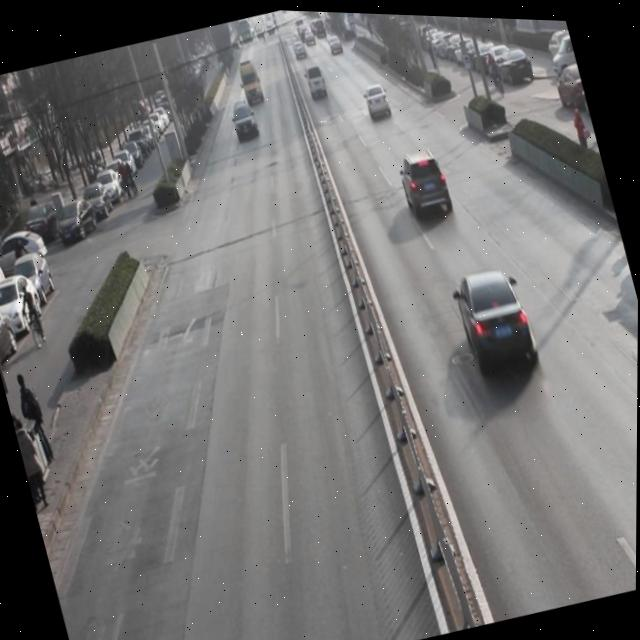car: (444, 253, 546, 387), (396, 144, 458, 228), (360, 76, 398, 128), (226, 97, 264, 146)
truck: (235, 51, 270, 107), (301, 57, 333, 104)
